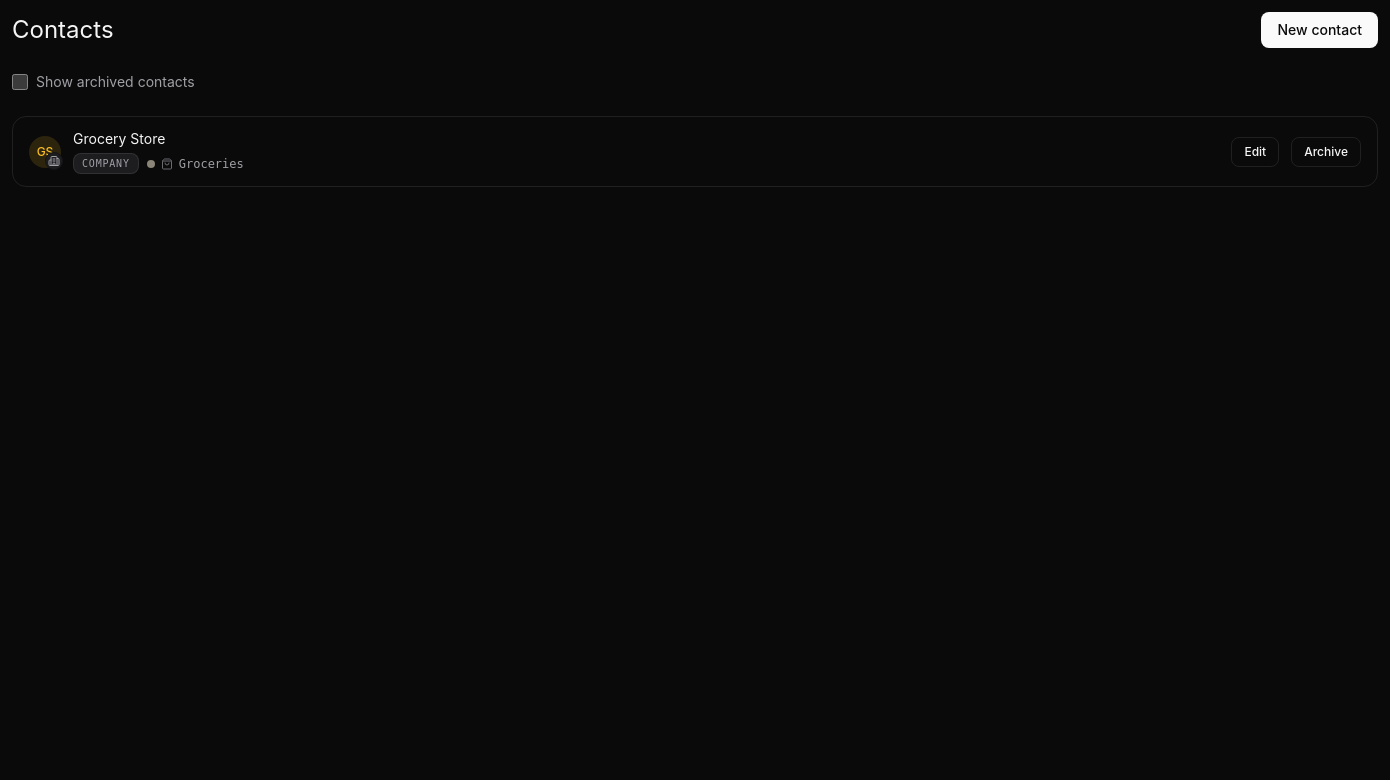
ContactsScreen › edits a contact's name
The width and height of the screenshot is (1390, 780).
Click the button "Edit" at (1255, 152), box [1231, 136, 1279, 166]
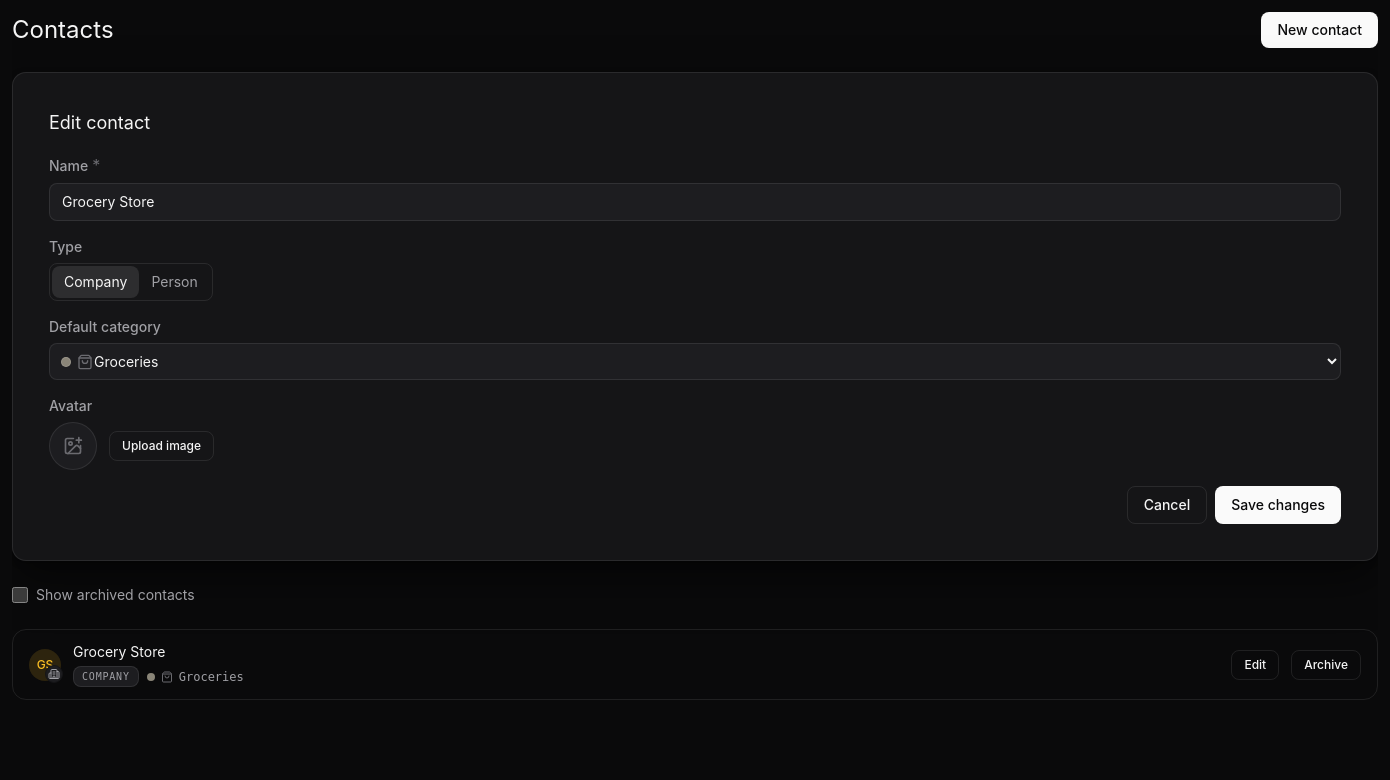
Replace the text in the field labelled "Name" with "Corner Shop" at (695, 202), box [49, 183, 1341, 221]
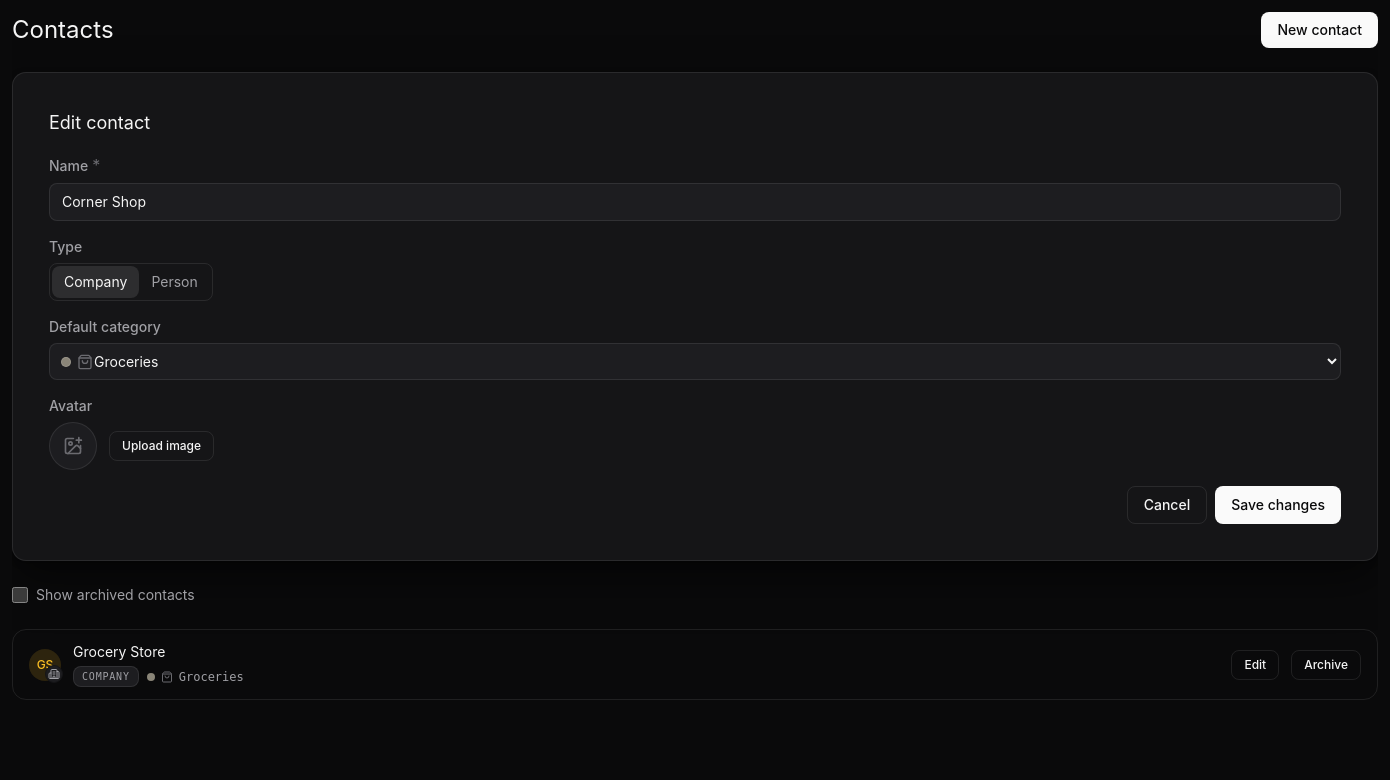
Click the button "Save changes" at (1278, 505), box [1215, 486, 1341, 524]
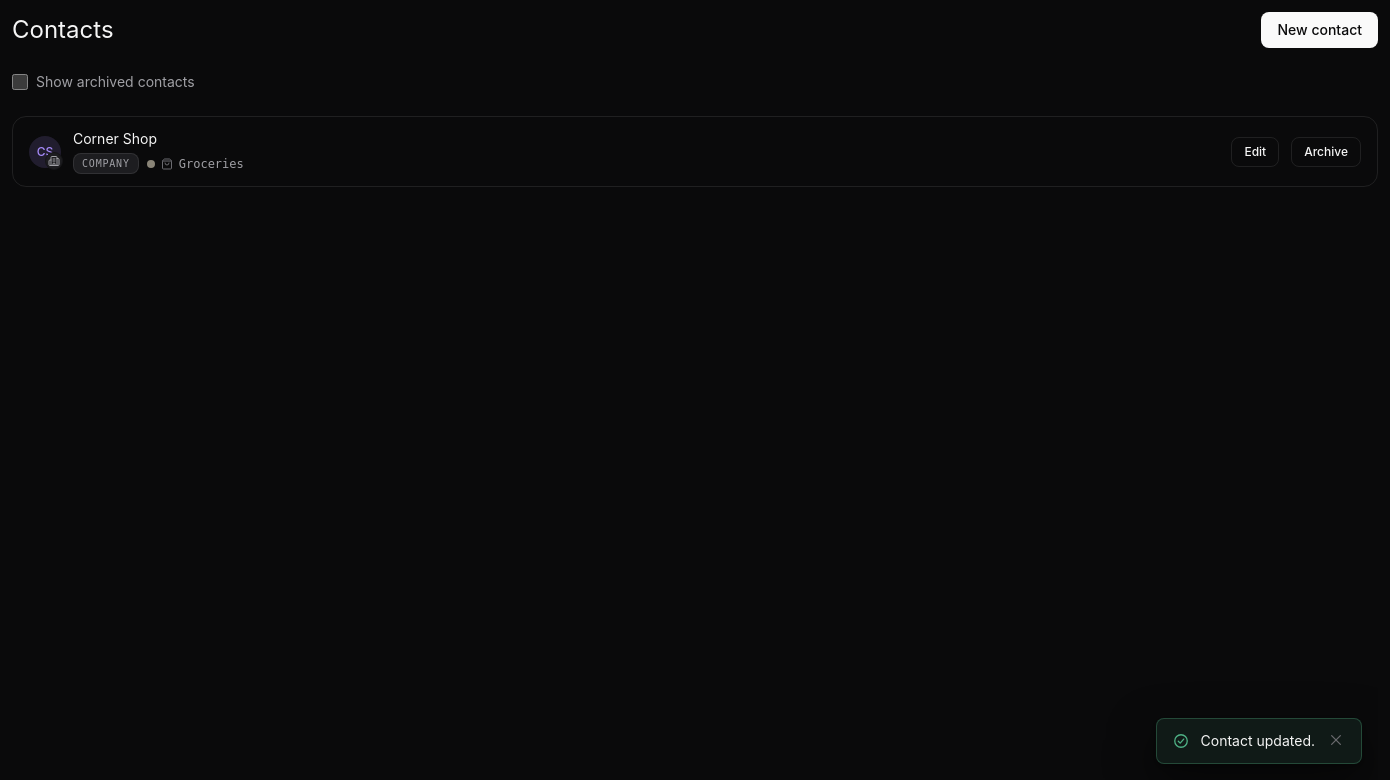
Expected: the text "Corner Shop" is shown, [73, 130, 157, 147]
